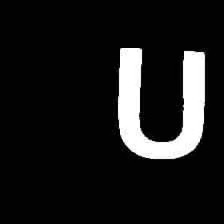LTR_U: (106, 39, 210, 162)
